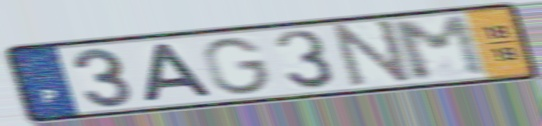3: (71, 46, 135, 110), (273, 29, 338, 92)
A: (139, 41, 219, 104)
G: (199, 36, 275, 97)
M: (387, 13, 496, 83)
N: (331, 17, 416, 90)
